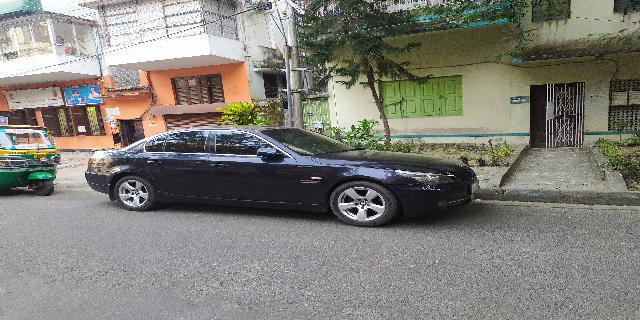Autorickshaw: (1, 122, 61, 199)
Car: (82, 122, 484, 229)
